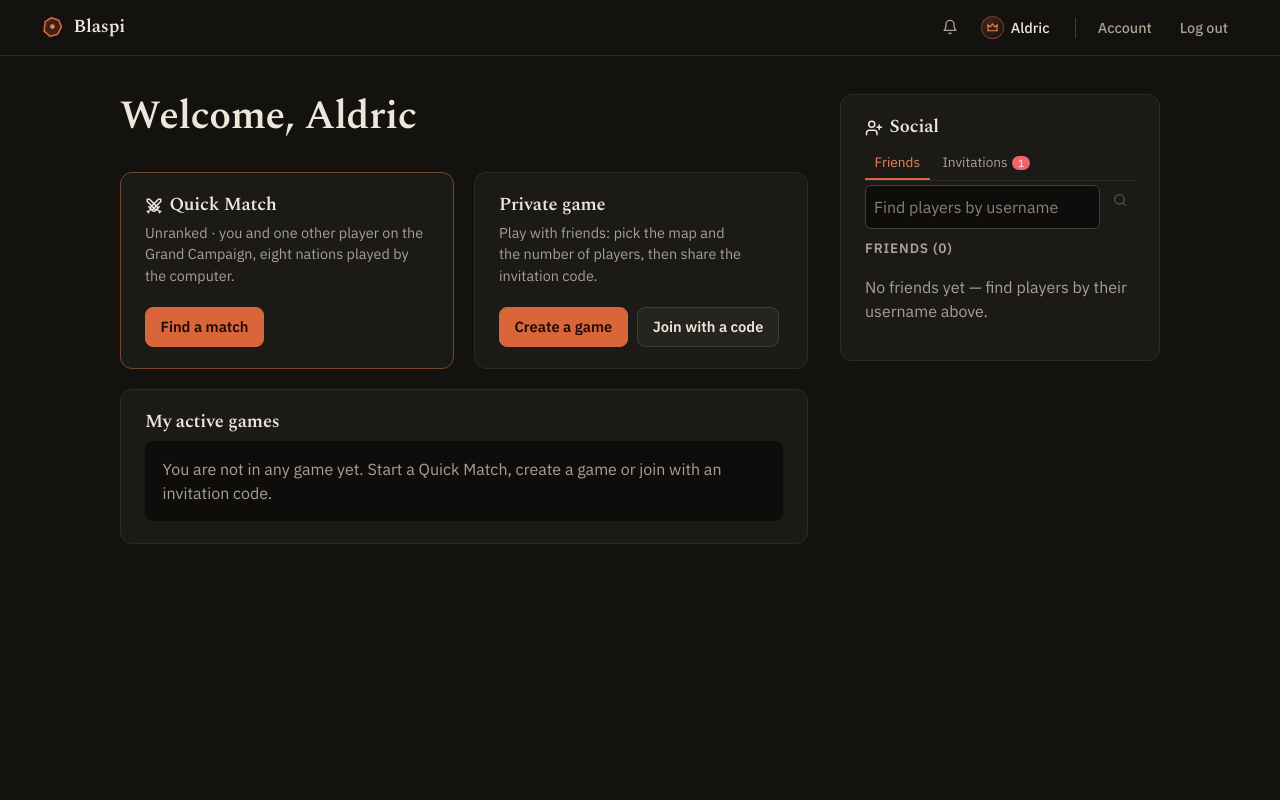
Test: Invitations and active games (13A) › shows a full lobby and lets the player decline
Later steps or results of the test are not shown.
Click the tab "Invitations1" at (986, 163), box left=933, top=146, right=1040, bottom=180
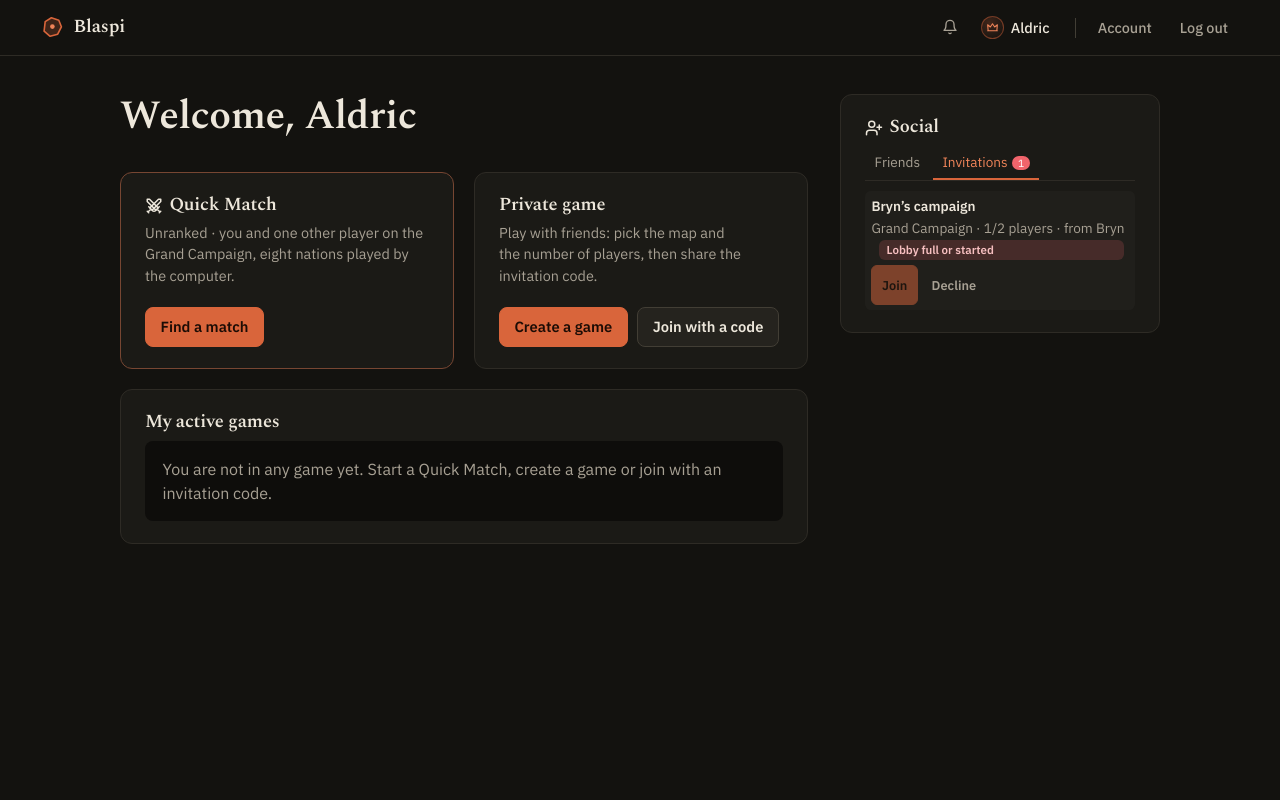
Now the button with aria-label "Join Bryn’s campaign" is disabled, box left=871, top=265, right=918, bottom=305
